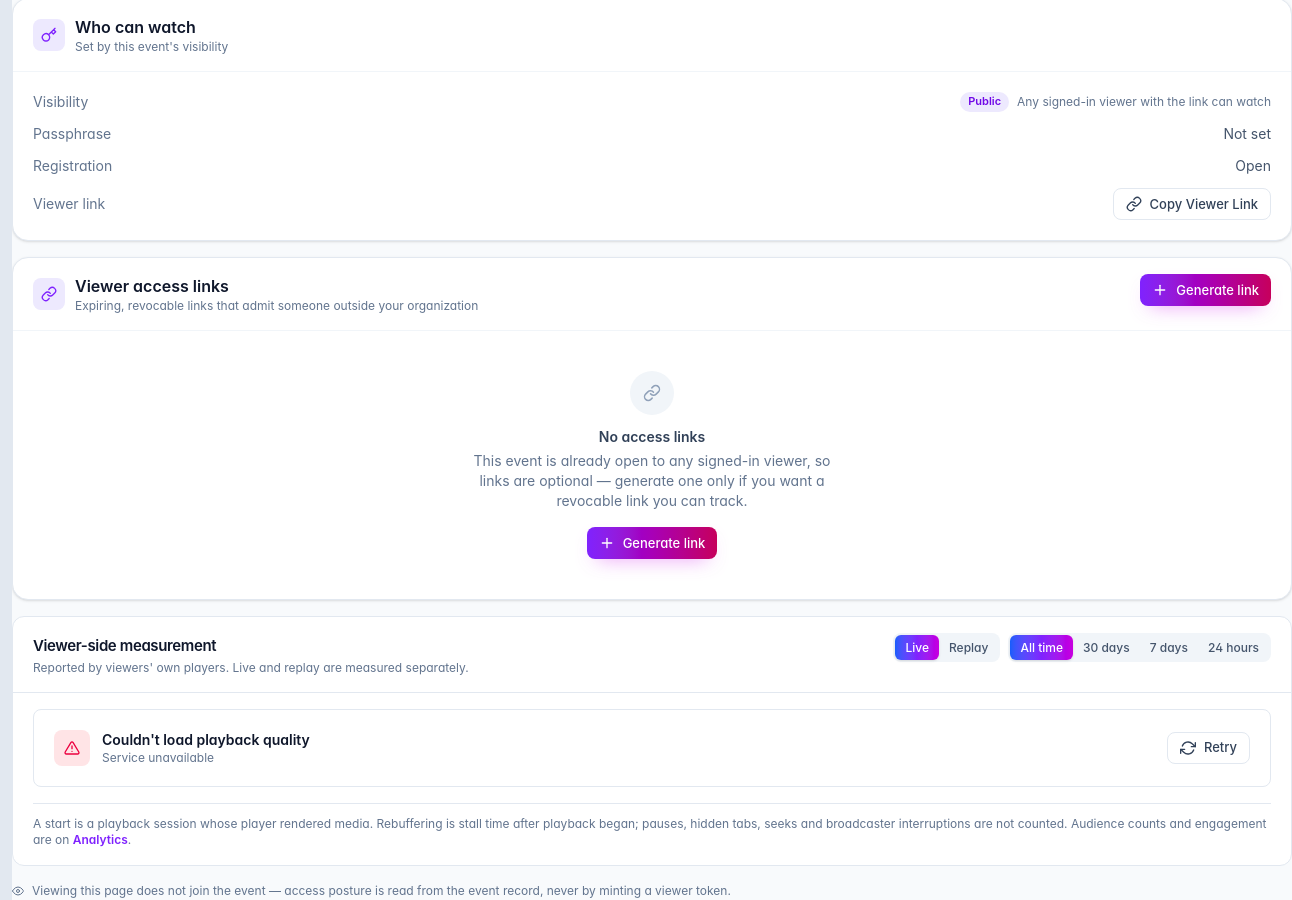
viewer-side measurement › shows an error it can retry when the figures cannot be loaded
The image size is (1292, 900).
(page scrolled)
Expected: the text "Couldn't load playback quality" is shown, left=102, top=730, right=310, bottom=750
Expected: the text "Service unavailable" is shown, left=102, top=750, right=214, bottom=765
Click the button "Retry" at (1208,748), box left=1167, top=732, right=1250, bottom=764
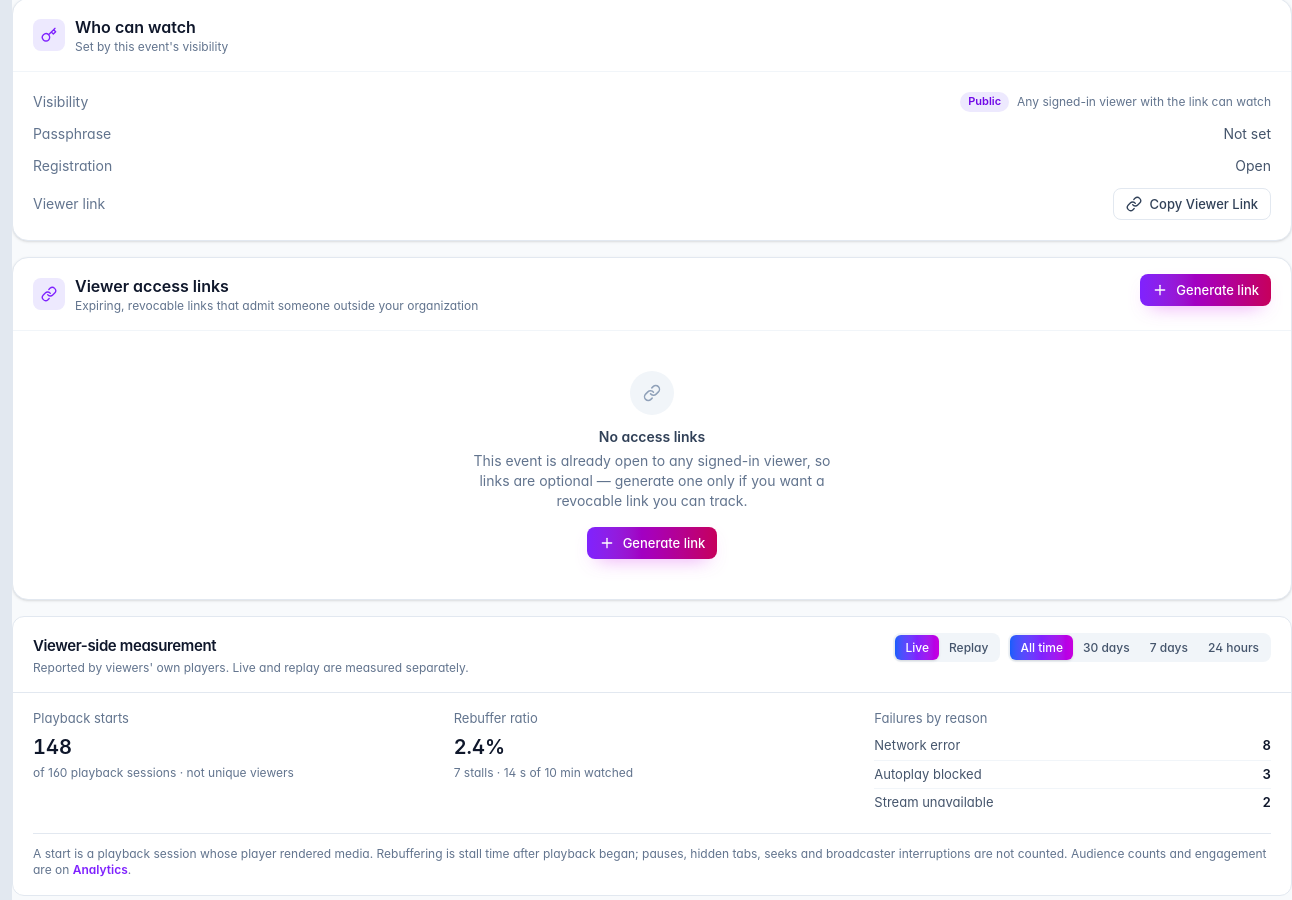
Now the text "148" is shown, box left=33, top=735, right=72, bottom=759
